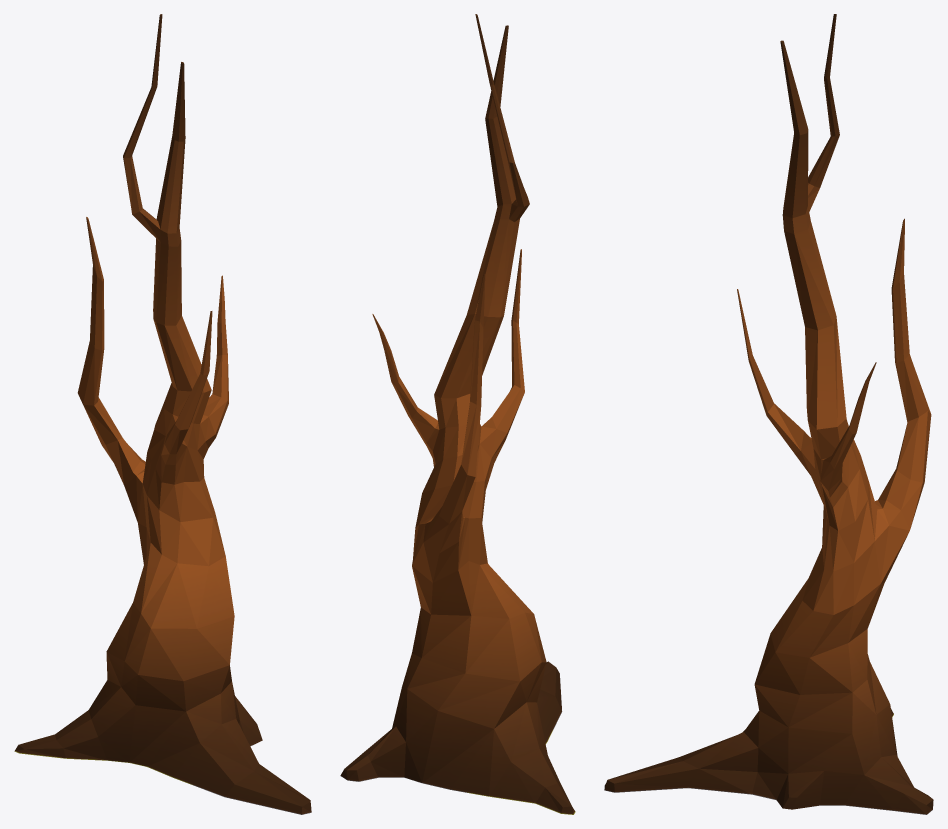
File: TreeDead-04.FBX
3 views of the same model, side by side, from view 1: azimuth 30°, elevation 25°; view 2: azimuth 150°, elevation 25°; view 3: azimuth 270°, elevation 25° (orthographic). The views are drawn at different scales.
Parts seen in each view (by area): view 1: TreeDead-04; view 2: TreeDead-04; view 3: TreeDead-04.
Boxes of the visible parts, <box> form: TreeDead-04: <box>14,14,311,814</box>; TreeDead-04: <box>340,14,575,814</box>; TreeDead-04: <box>604,14,933,814</box>.
Bounding box in the file's own units: 286 × 954 × 376.
Materials: 1 (1 with a texture image).
